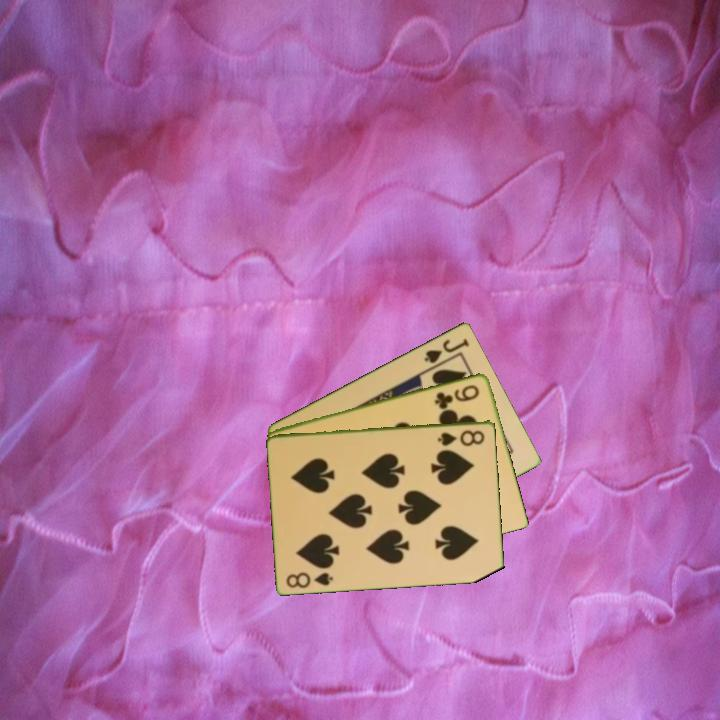8s: (435, 426, 488, 449), (283, 568, 336, 591)
9c: (431, 381, 482, 410)
Js: (421, 334, 472, 366)
